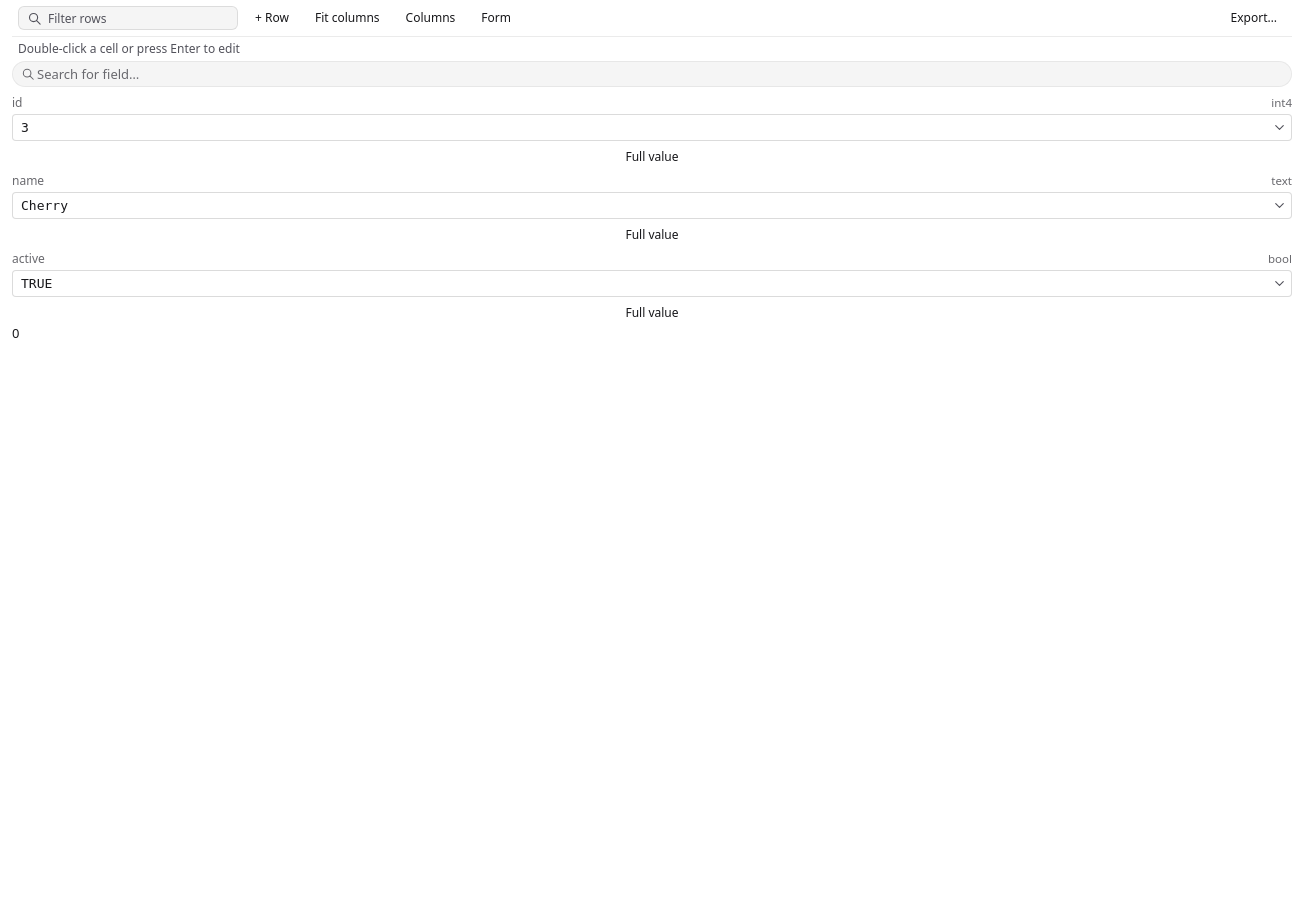
keeps hidden keys available for editing and stages insert, duplicate and deletion without writes
Expected: the button "+ Row" is enabled, 246,6 -> 298,30
Click the button "Columns" at (430, 18), box 397,6 -> 464,30
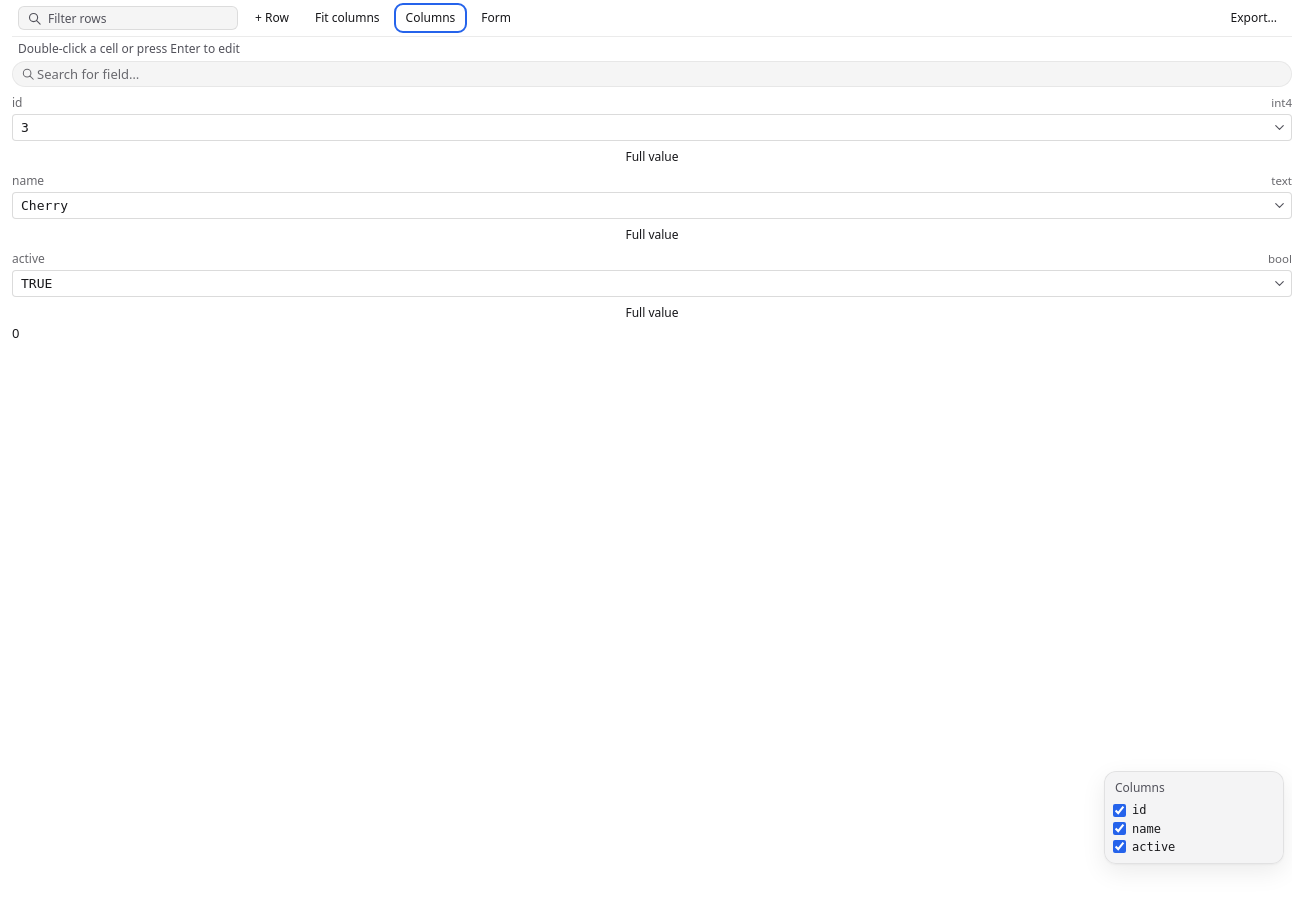
Click the checkbox labelled "id" at (1120, 810), box 1113,804 -> 1126,817
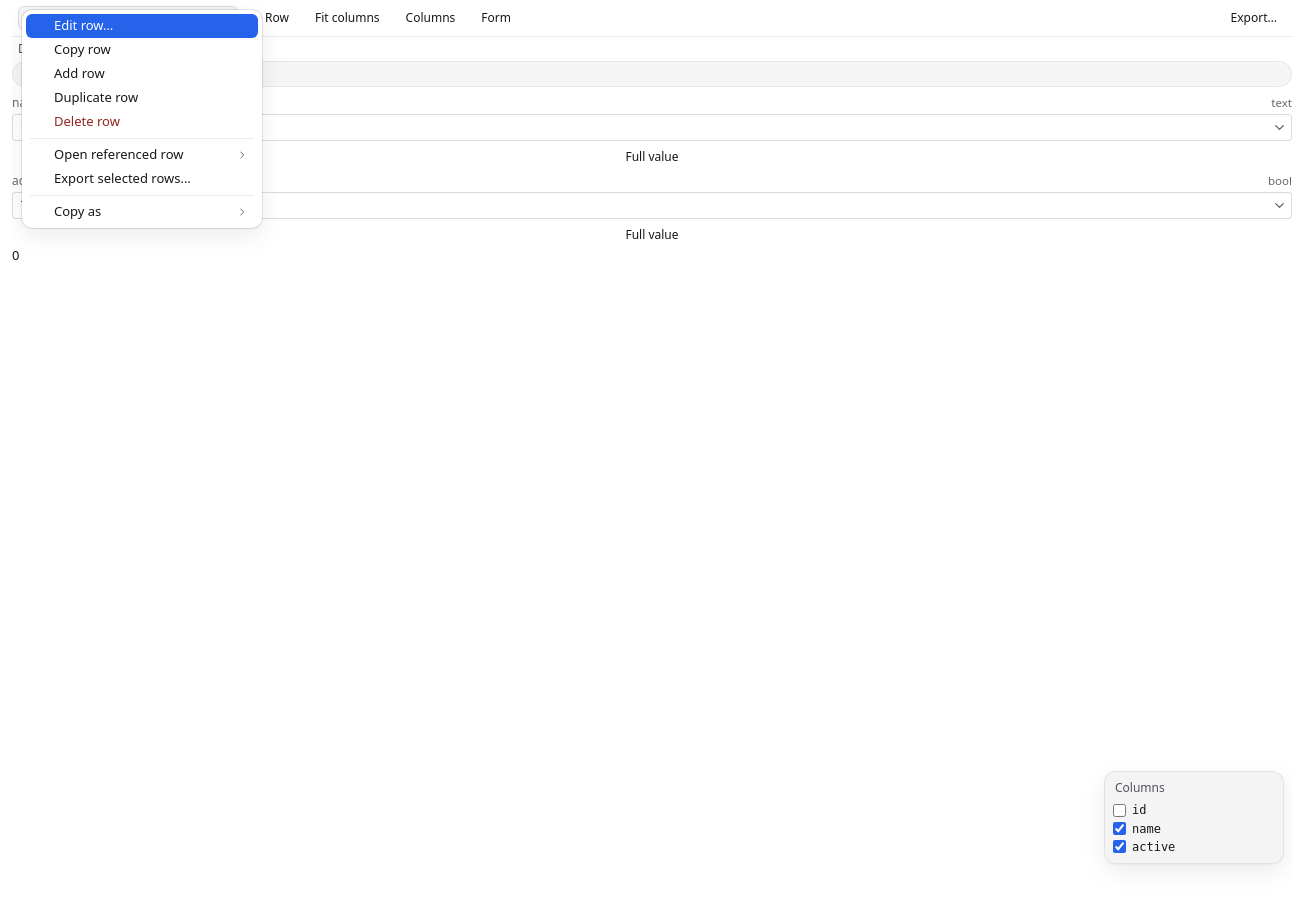
Expected: the label "name" is shown, 1113,822 -> 1161,836
Click the menu item "Duplicate row" at (142, 98), box 26,86 -> 258,110
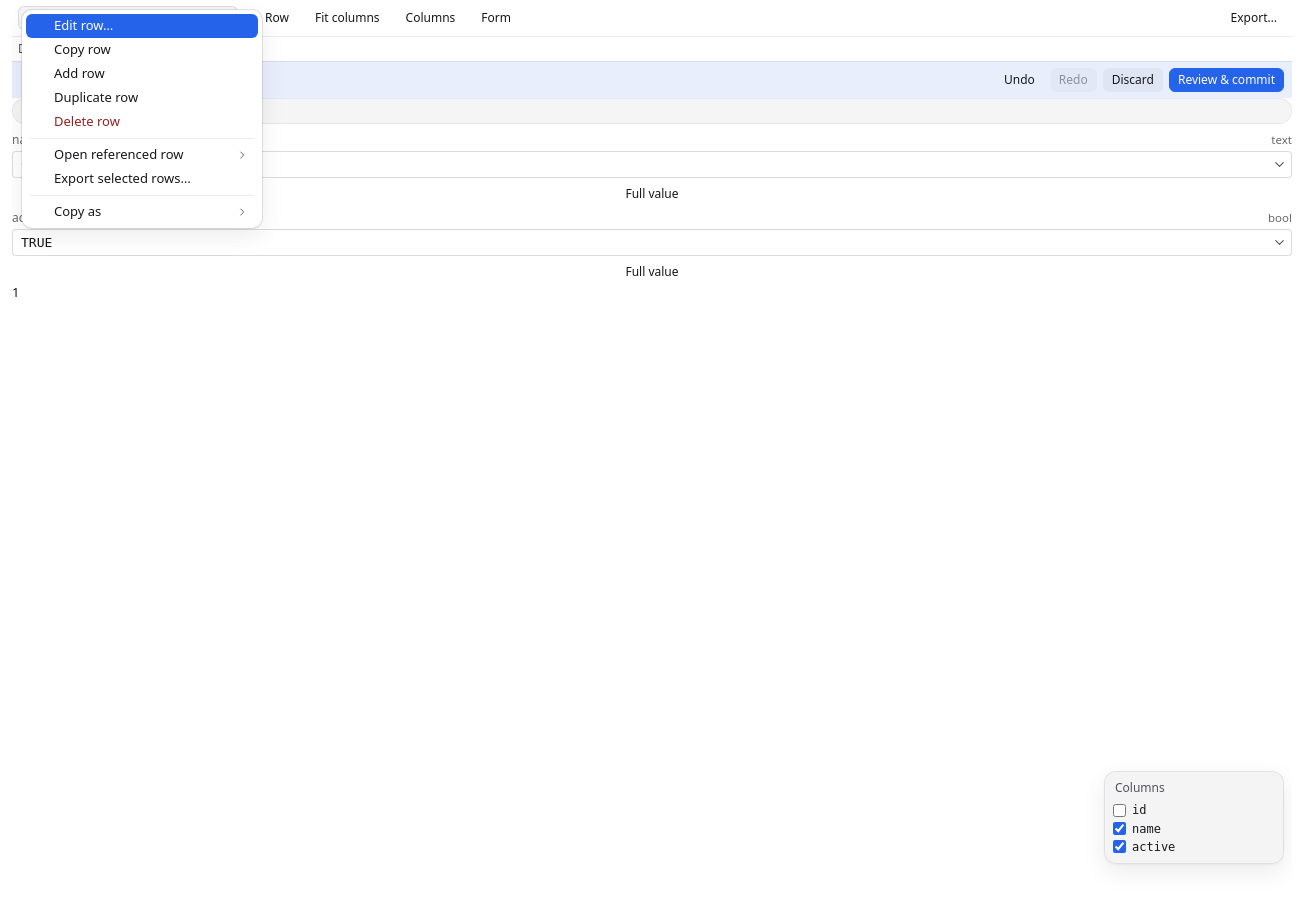
Click the menu item "Delete row" at (142, 122), box 26,110 -> 258,134
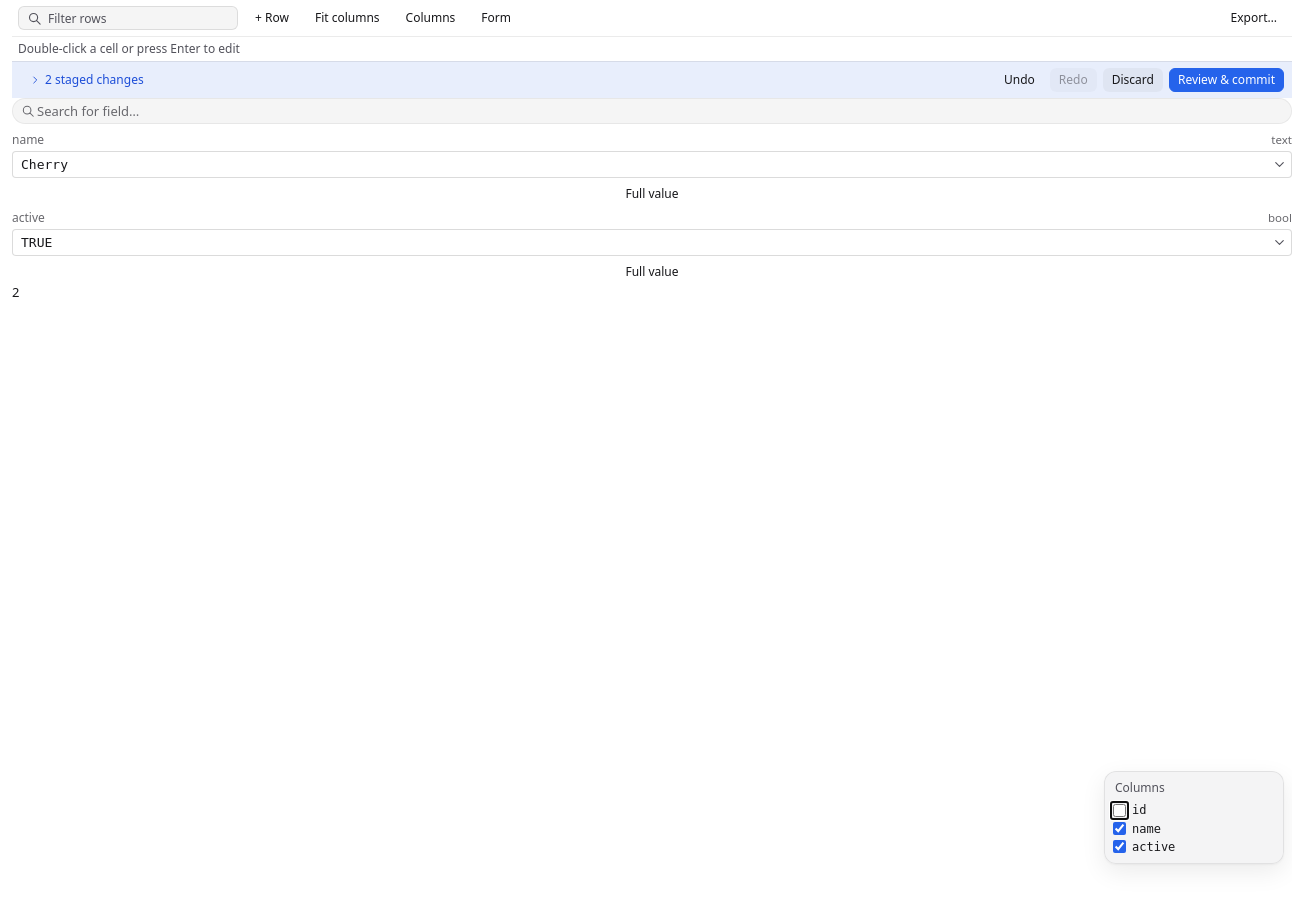
Click the button "+ Row" at (272, 18), box 246,6 -> 298,30
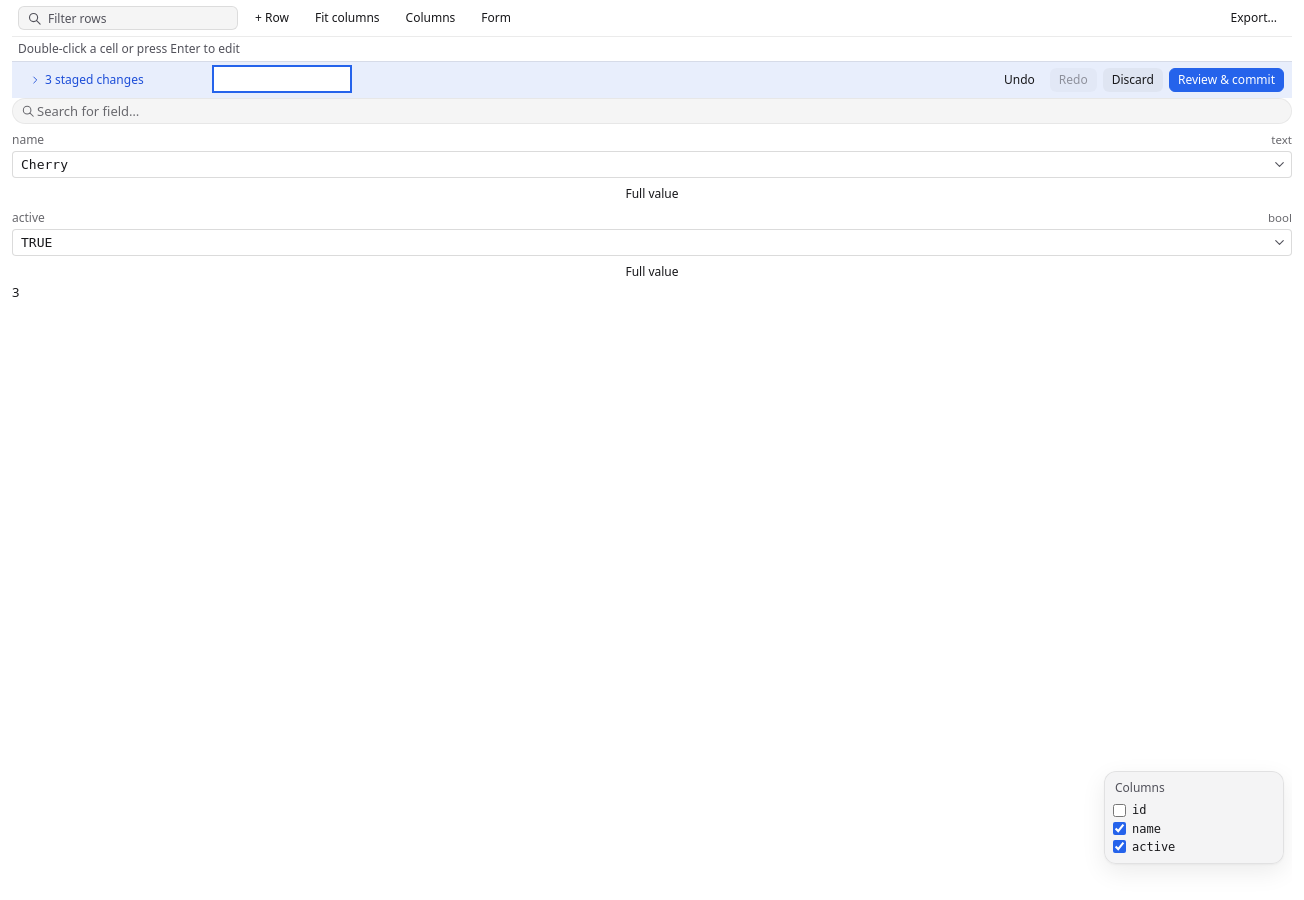
Expected: the text named "Protected edits" reads "3", 12,283 -> 19,301
